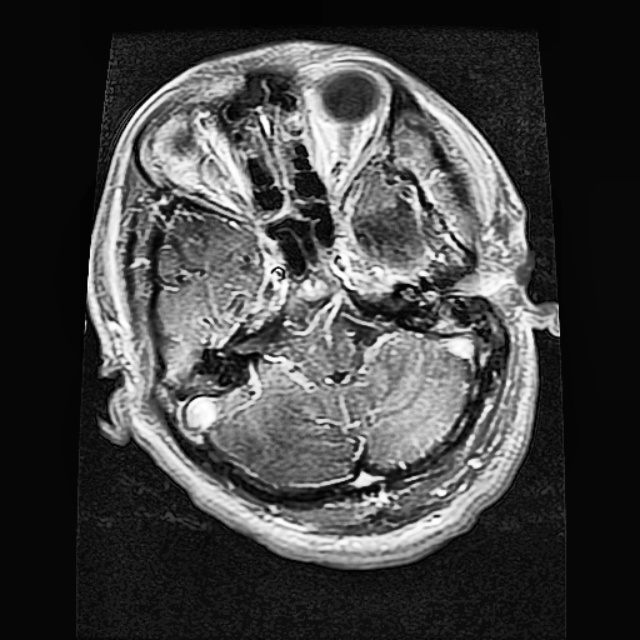Pituitary: (353, 165, 449, 267)
